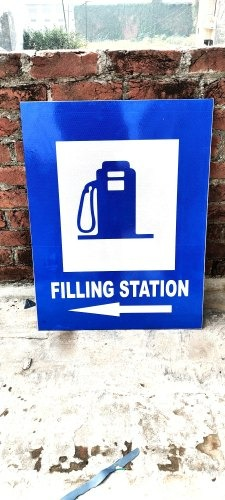fuel-station: (22, 102, 214, 278)
left turn: (65, 299, 175, 319)
